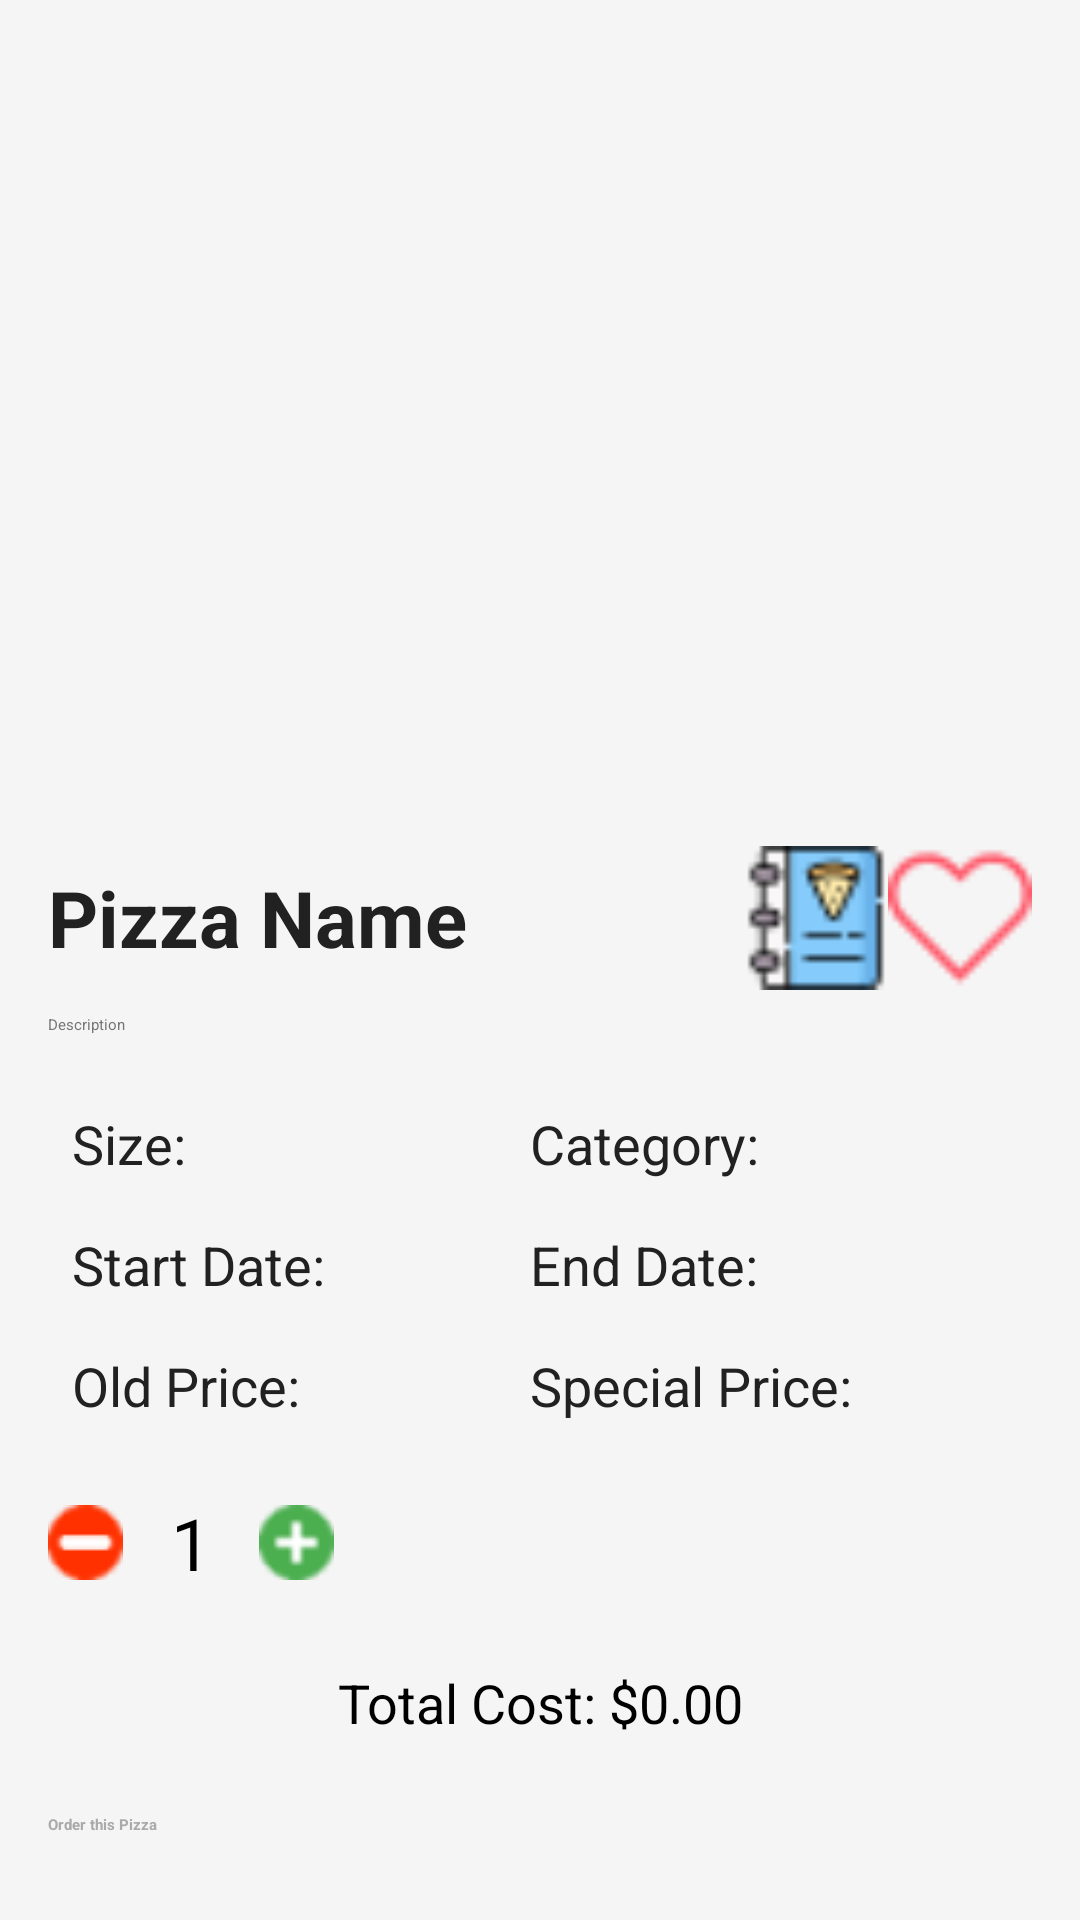

Icon click points for this 1080px x 1920px phone screenshot, format [x,y]:
heartempty: [960,917]
menu: [816,918]
minus: [85,1542]
plus: [296,1542]
